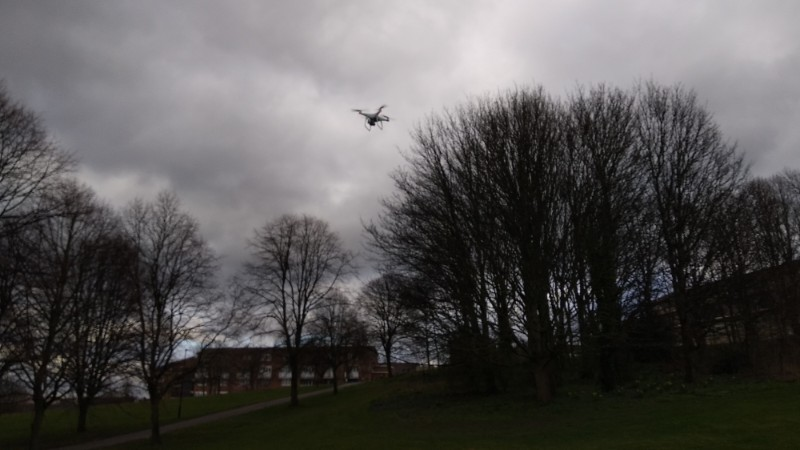drone: (353, 106, 395, 131)
